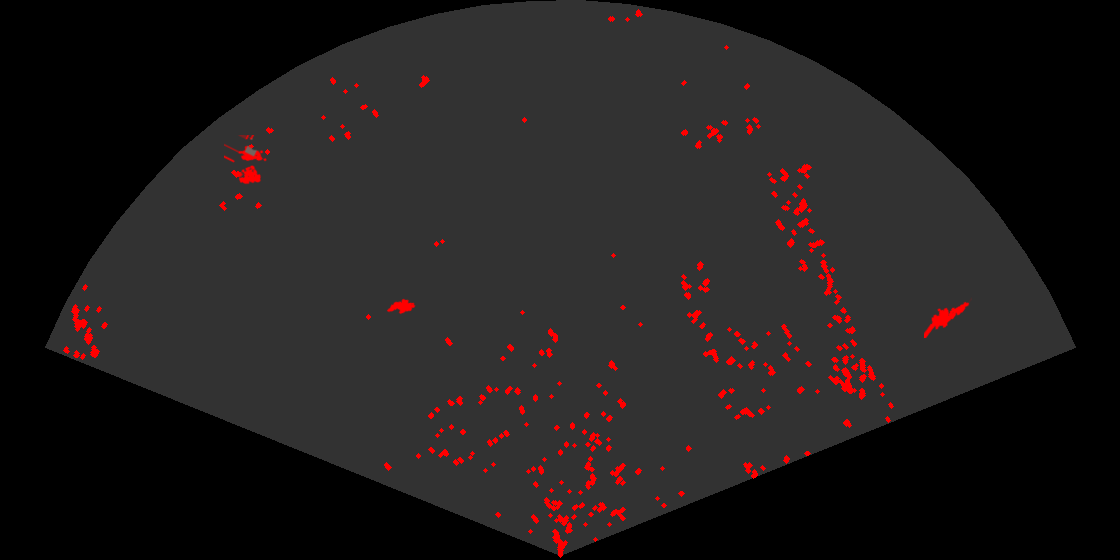AUV: (385, 297, 417, 316)
cage: (224, 135, 268, 186)
frogman: (924, 296, 972, 338)
